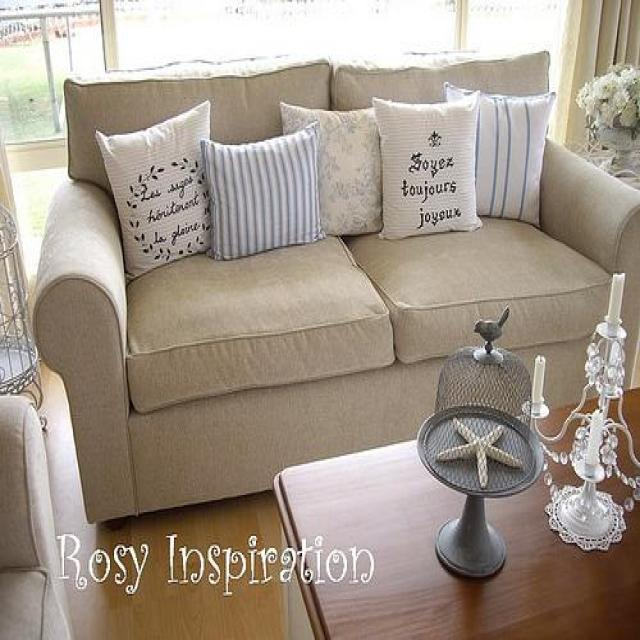sofa: (31, 48, 638, 524)
